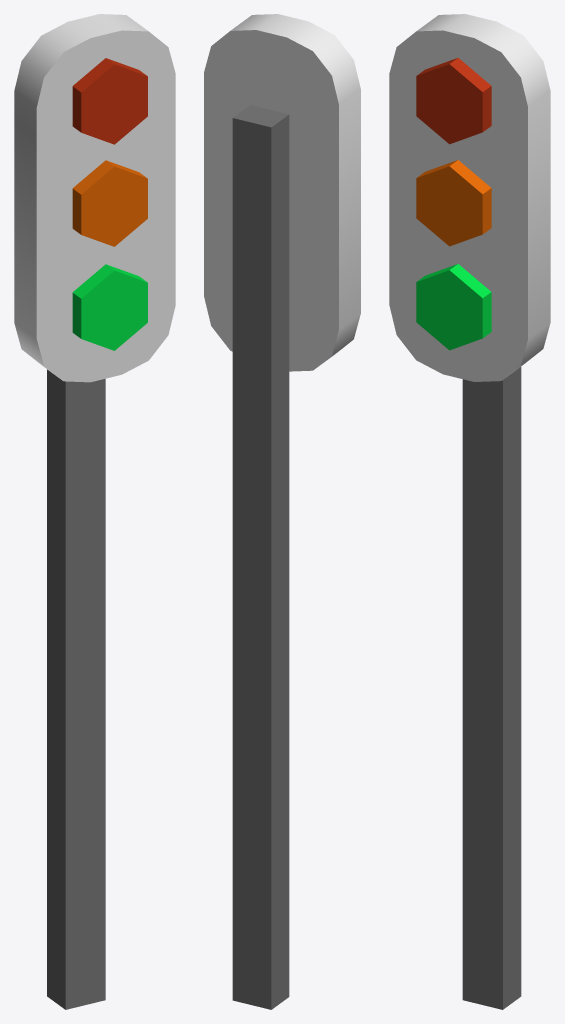
The model's file is PR_TrafficLight2_01.fbx.
3 renders of one model, left to right at view 1: azimuth 30°, elevation 25°; view 2: azimuth 150°, elevation 25°; view 3: azimuth 330°, elevation 25°, orthographic. The views are drawn at different scales.
Visible parts, largest first — view 1: Cube.011, PR_TrafficLight2_01, Cylinder.011, Cylinder.009, Cylinder.010; view 2: PR_TrafficLight2_01, Cube.011; view 3: Cube.011, PR_TrafficLight2_01, Cylinder.009, Cylinder.010, Cylinder.011.
Boxes of the visible parts, x1=… form: Cube.011: x1=14, y1=14, x2=175, y2=382; PR_TrafficLight2_01: x1=47, y1=369, x2=105, y2=1009; Cylinder.011: x1=72, y1=264, x2=147, y2=350; Cylinder.009: x1=72, y1=58, x2=147, y2=144; Cylinder.010: x1=72, y1=160, x2=147, y2=246; PR_TrafficLight2_01: x1=232, y1=105, x2=289, y2=1009; Cube.011: x1=204, y1=14, x2=360, y2=371; Cube.011: x1=389, y1=14, x2=550, y2=381; PR_TrafficLight2_01: x1=462, y1=367, x2=521, y2=1009; Cylinder.009: x1=416, y1=58, x2=491, y2=144; Cylinder.010: x1=416, y1=160, x2=491, y2=246; Cylinder.011: x1=416, y1=264, x2=491, y2=350.
Bounding box in the file's own units: 71.91 × 489 × 44.55.
